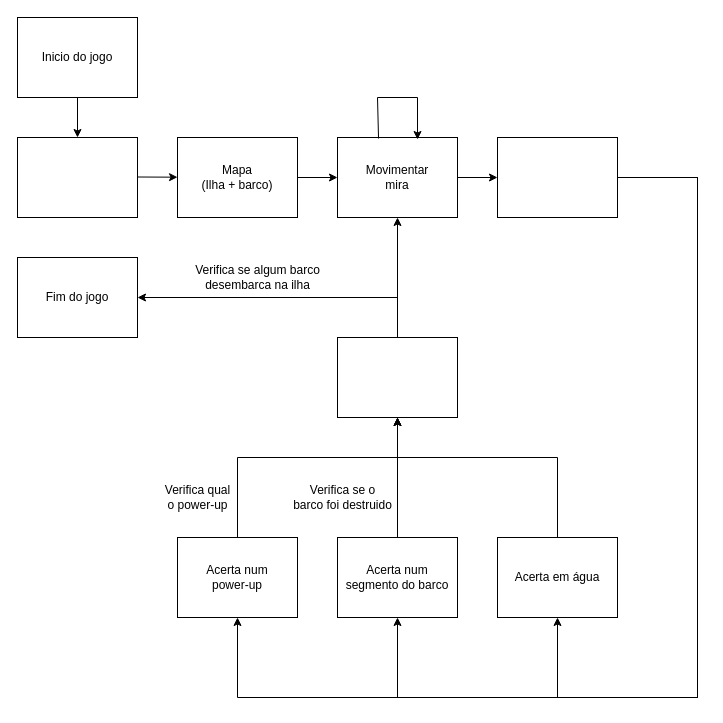
This 723x723 diagram has some shape labels left out. The shapes that lost their labels are listed below. From the top down, each one's centre as x and y in pixels, then its label:
[77,177]: Selecionar dificuldade
[557,177]: Mandar tiro
[397,377]: Movimentar barco
